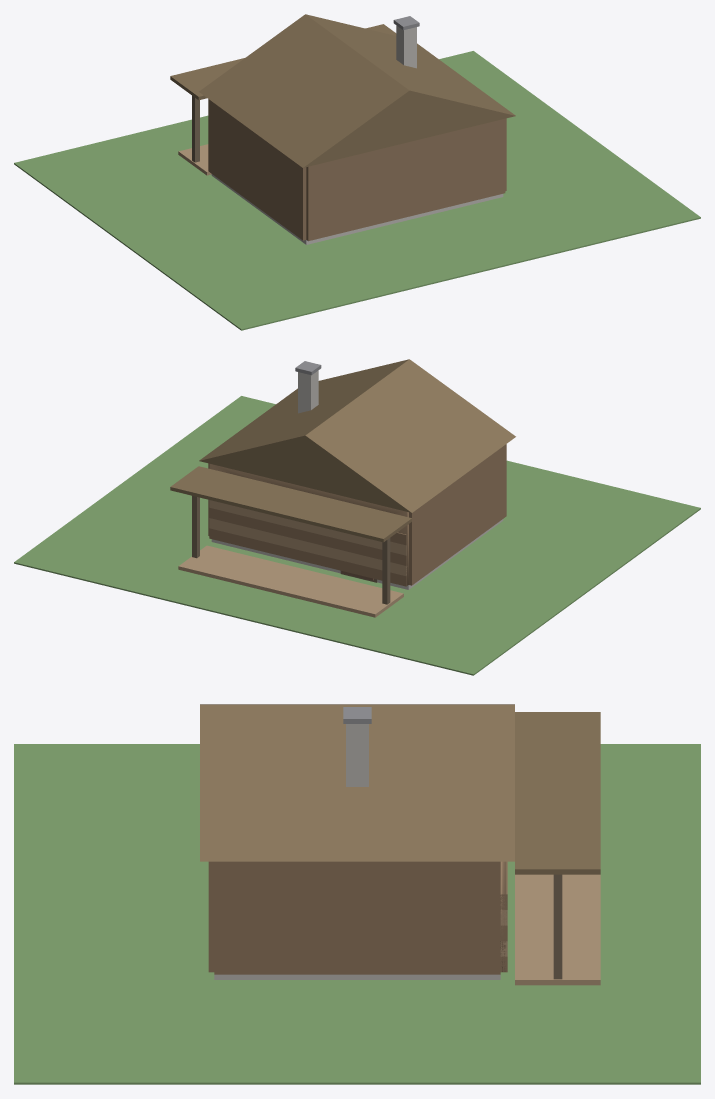
File: hunting_cabin.glb
The picture shows the model from 3 angles, top to bottom: view 1: azimuth 30°, elevation 25°; view 2: azimuth 150°, elevation 25°; view 3: azimuth 270°, elevation 25°; orthographic projection. The views are drawn at different scales.
Visible parts, largest first — view 1: ground, roof, back_wall, left_wall, porch_roof, foundation, chimney, porch_post_l; view 2: ground, roof, left_wall, porch_roof, porch_floor, log_row_1, log_row_3, log_row_2, log_row_4, front_l, foundation, chimney (+2 smaller); view 3: ground, roof, right_wall, porch_roof, porch_floor, foundation, chimney, porch_post_r, back_wall.
Boxes of the visible parts, left/top/right/bottom form: ground: left=14, top=51, right=700, bottom=330; roof: left=199, top=14, right=515, bottom=167; back_wall: left=306, top=119, right=505, bottom=241; left_wall: left=208, top=99, right=306, bottom=240; porch_roof: left=170, top=24, right=396, bottom=100; foundation: left=211, top=174, right=503, bottom=244; chimney: left=396, top=25, right=416, bottom=68; porch_post_l: left=192, top=95, right=199, bottom=162; ground: left=14, top=396, right=700, bottom=675; roof: left=199, top=359, right=515, bottom=512; left_wall: left=408, top=444, right=506, bottom=585; porch_roof: left=170, top=466, right=411, bottom=542; porch_floor: left=178, top=545, right=403, bottom=617; log_row_1: left=209, top=528, right=406, bottom=586; log_row_3: left=209, top=507, right=406, bottom=565; log_row_2: left=209, top=518, right=406, bottom=575; log_row_4: left=209, top=500, right=406, bottom=555; front_l: left=209, top=464, right=408, bottom=585; foundation: left=211, top=519, right=503, bottom=589; chimney: left=298, top=370, right=318, bottom=413; ground: left=14, top=744, right=700, bottom=1084; roof: left=200, top=704, right=514, bottom=861; right_wall: left=214, top=861, right=500, bottom=974; porch_roof: left=515, top=712, right=600, bottom=874; porch_floor: left=515, top=874, right=600, bottom=985; foundation: left=214, top=974, right=500, bottom=979; chimney: left=346, top=724, right=368, bottom=786; porch_post_r: left=553, top=874, right=562, bottom=979; back_wall: left=208, top=861, right=214, bottom=972.
Size of the model in its own units: 14 by 4.6 by 12.
